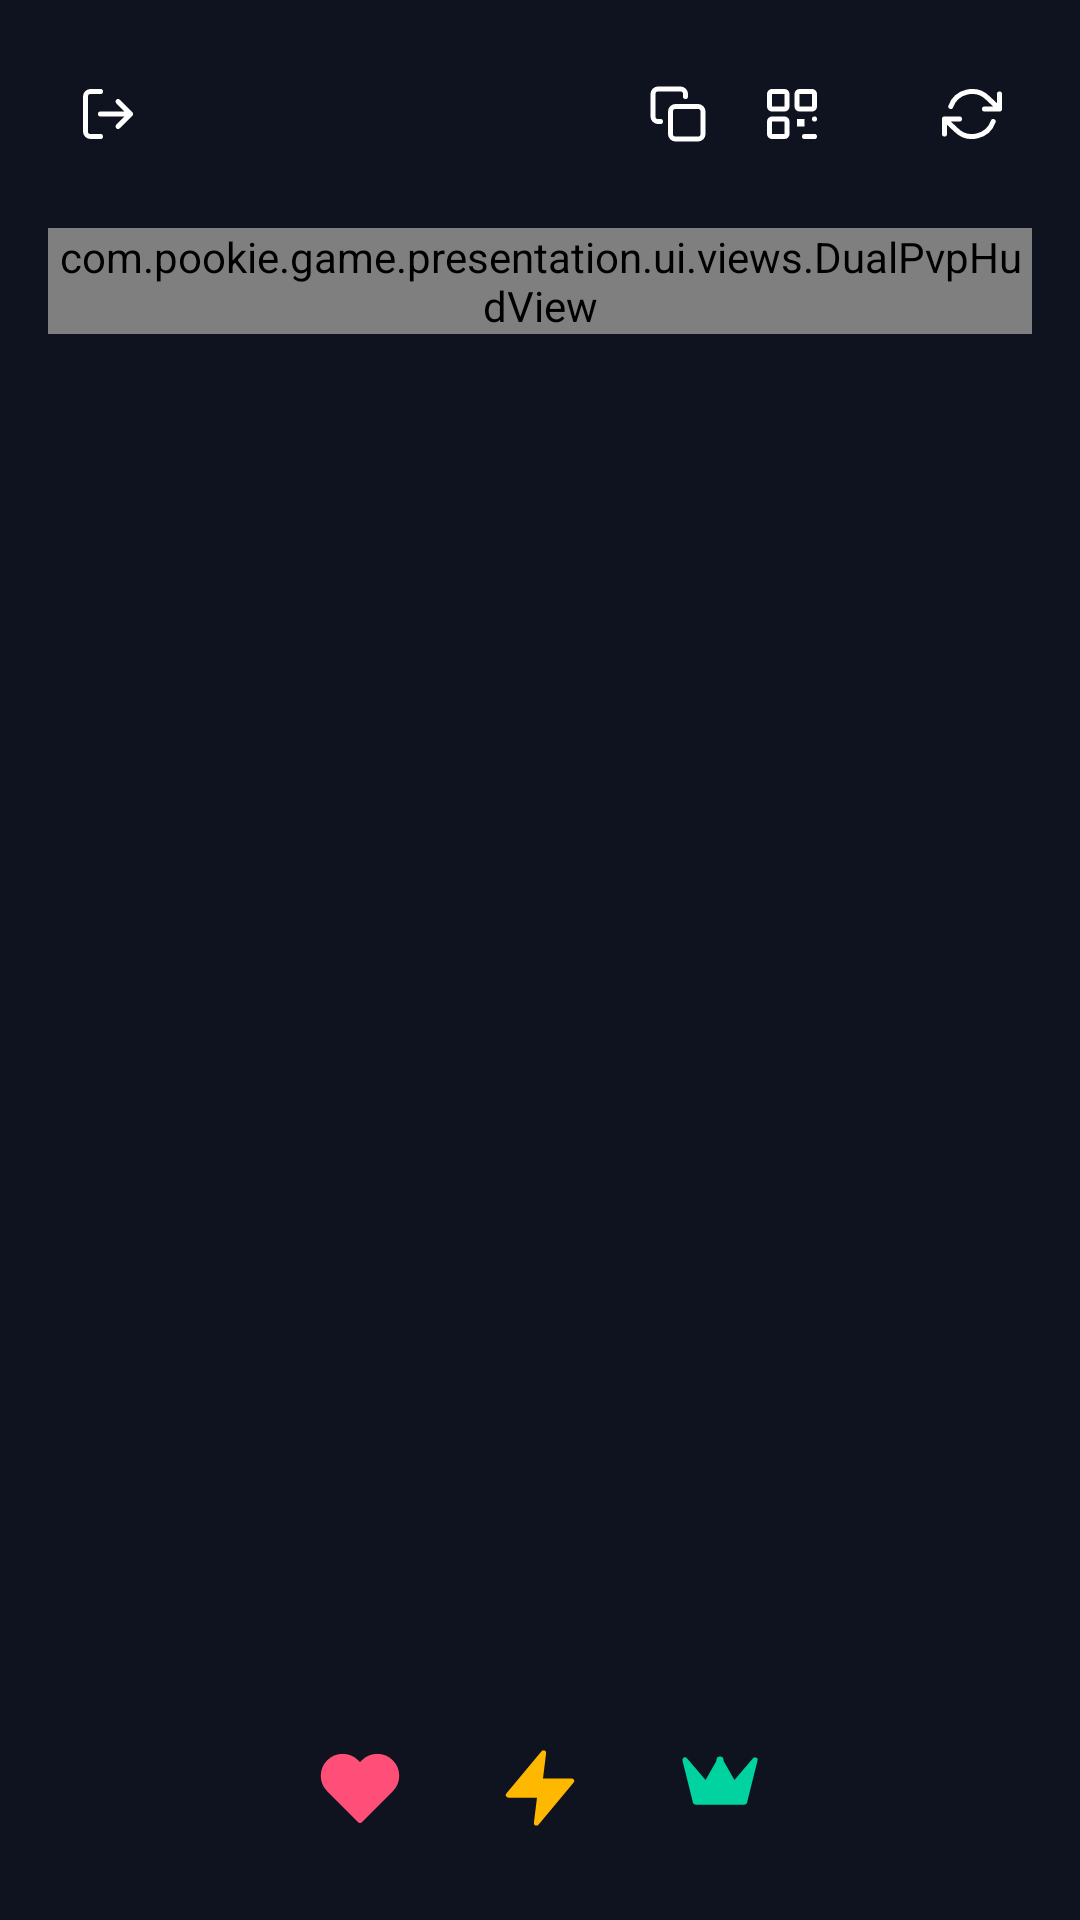

Where icons sit on this 1080px x 1920px app screen, as bbox=[x1, y1, x2, y2]:
leave: bbox=[83, 89, 133, 139]
qr code: bbox=[767, 89, 817, 139]
reaction crown: bbox=[682, 1756, 758, 1805]
reaction heart: bbox=[320, 1754, 400, 1823]
reaction lightning: bbox=[505, 1750, 575, 1826]
rematch: bbox=[942, 89, 1002, 139]
